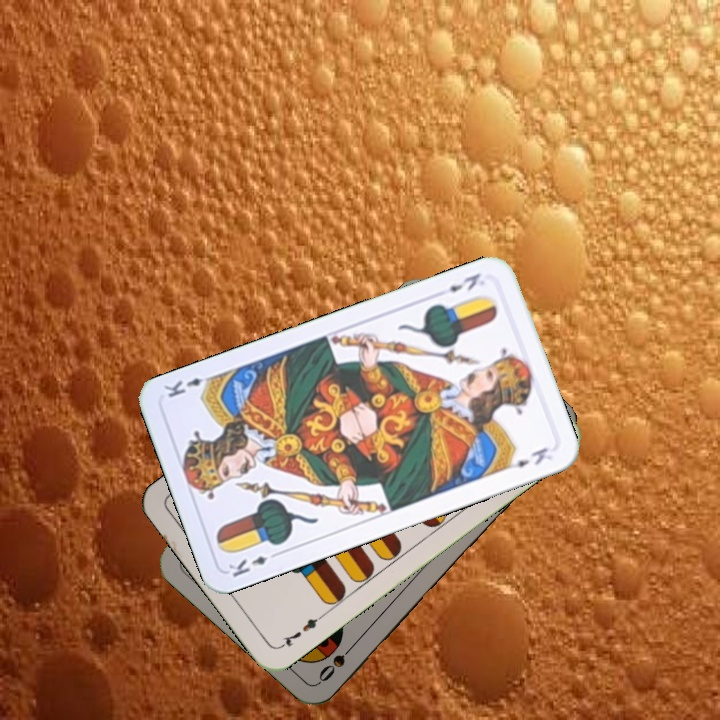E7: (276, 610, 326, 651)
EK: (224, 547, 283, 580), (444, 268, 483, 295)
SO: (314, 637, 360, 685)
